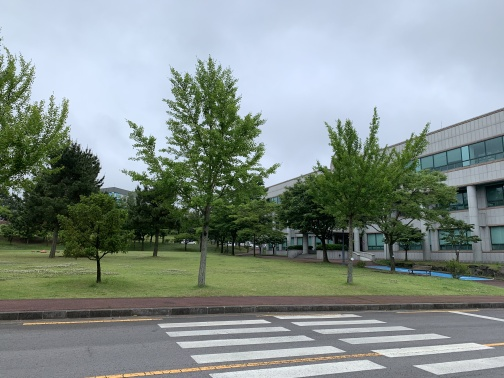Second Library: (269, 120, 504, 261)
